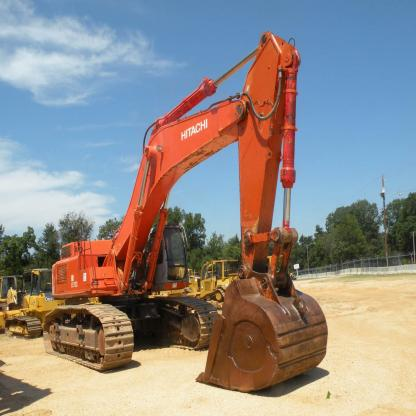excavator: (31, 18, 346, 395)
